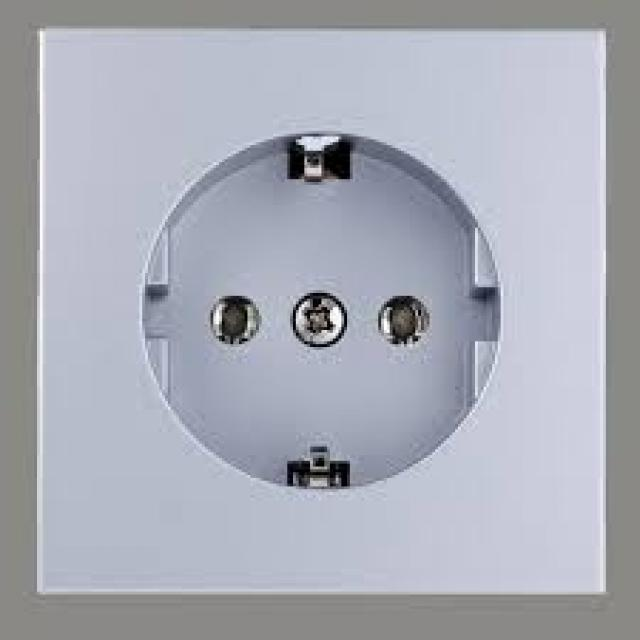typeb: (17, 15, 627, 621)
